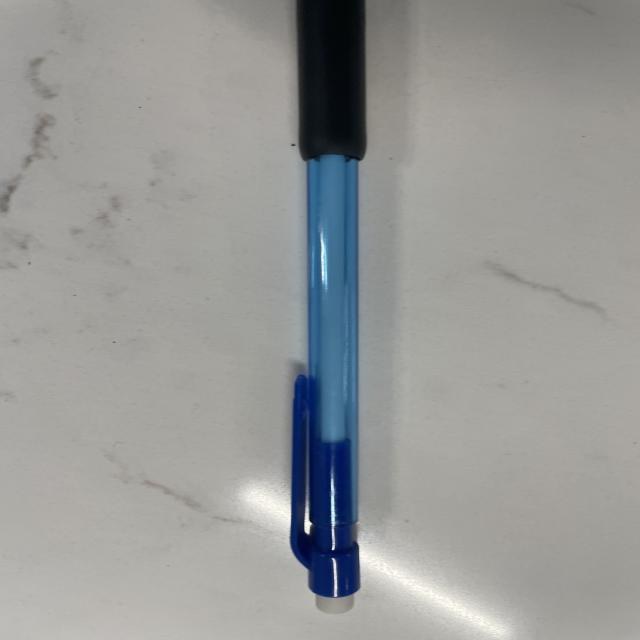mechanical-pencils: (285, 1, 371, 623)
